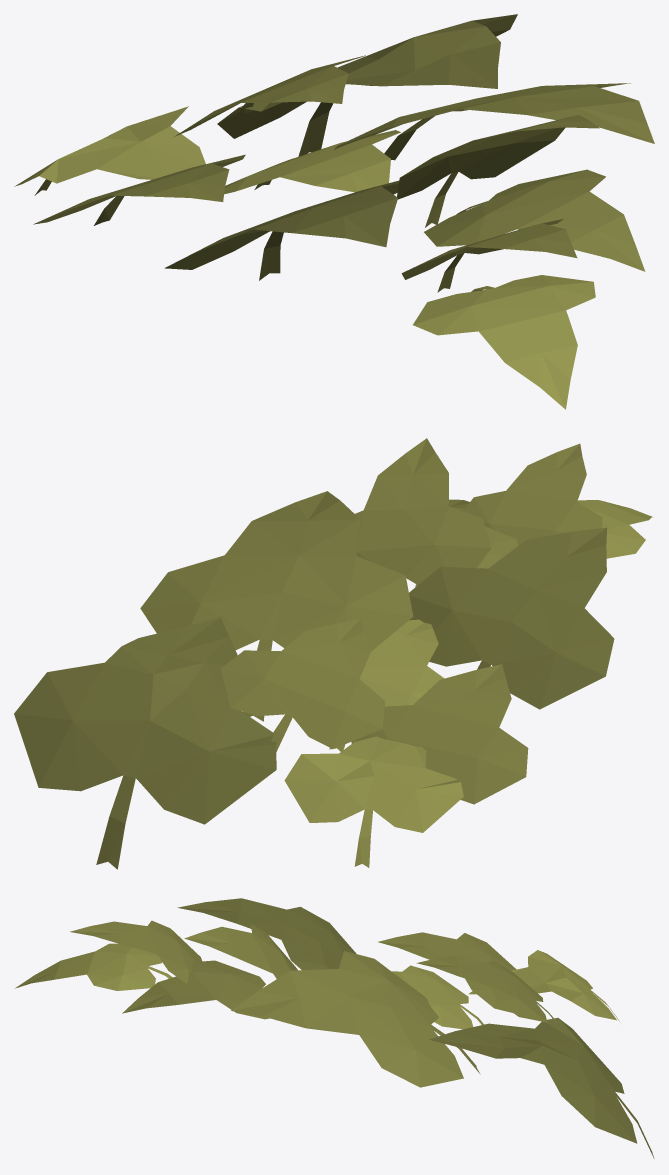
Rendered from SFHW_Ivy_003.fbx.
The picture shows the model from 3 angles, top to bottom: view 1: azimuth 30°, elevation 25°; view 2: azimuth 150°, elevation 25°; view 3: azimuth 270°, elevation 25°; orthographic projection. The views are drawn at different scales.
Visible parts, largest first — view 1: SFHW_Ivy_003; view 2: SFHW_Ivy_003; view 3: SFHW_Ivy_003.
Part boxes in pixels (left/top/right/bottom): SFHW_Ivy_003: left=14, top=14, right=654, bottom=409; SFHW_Ivy_003: left=14, top=438, right=653, bottom=869; SFHW_Ivy_003: left=15, top=898, right=654, bottom=1158.
Bounding box in the file's own units: 29.85 × 15.09 × 43.61.
